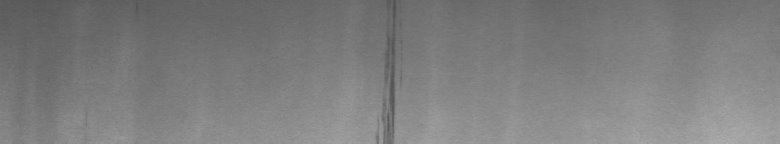hd: (376, 4, 402, 136)
